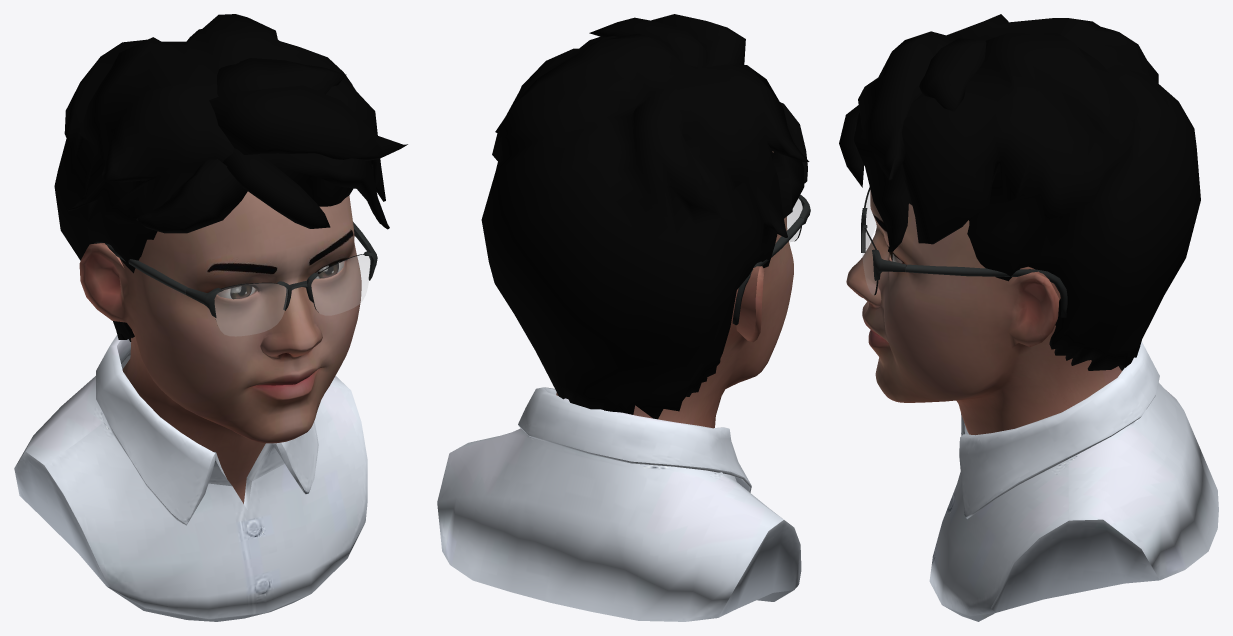
The model's file is avatar.glb.
3 renders of one model, left to right at view 1: azimuth 30°, elevation 25°; view 2: azimuth 150°, elevation 25°; view 3: azimuth 270°, elevation 25°, orthographic. The views are drawn at different scales.
Visible parts, largest first — view 1: Wolf3D_Shirt, Wolf3D_Hair, Wolf3D_Head, Wolf3D_Glasses; view 2: Wolf3D_Hair, Wolf3D_Shirt, Wolf3D_Head, Wolf3D_Glasses; view 3: Wolf3D_Hair, Wolf3D_Shirt, Wolf3D_Head, Wolf3D_Glasses.
Boxes of the visible parts, bbox=[...] form: Wolf3D_Shirt: bbox=[14, 335, 367, 621]; Wolf3D_Hair: bbox=[54, 14, 407, 341]; Wolf3D_Head: bbox=[79, 191, 361, 503]; Wolf3D_Glasses: bbox=[93, 222, 377, 336]; Wolf3D_Hair: bbox=[481, 14, 809, 419]; Wolf3D_Shirt: bbox=[437, 387, 801, 621]; Wolf3D_Head: bbox=[556, 151, 793, 428]; Wolf3D_Glasses: bbox=[732, 195, 810, 325]; Wolf3D_Hair: bbox=[839, 14, 1200, 370]; Wolf3D_Shirt: bbox=[929, 341, 1218, 621]; Wolf3D_Head: bbox=[846, 189, 1121, 435]; Wolf3D_Glasses: bbox=[861, 187, 1067, 317].
Bounding box in the file's own units: 0.2312 × 0.3927 × 0.2409.
6 materials, 6 textured.
